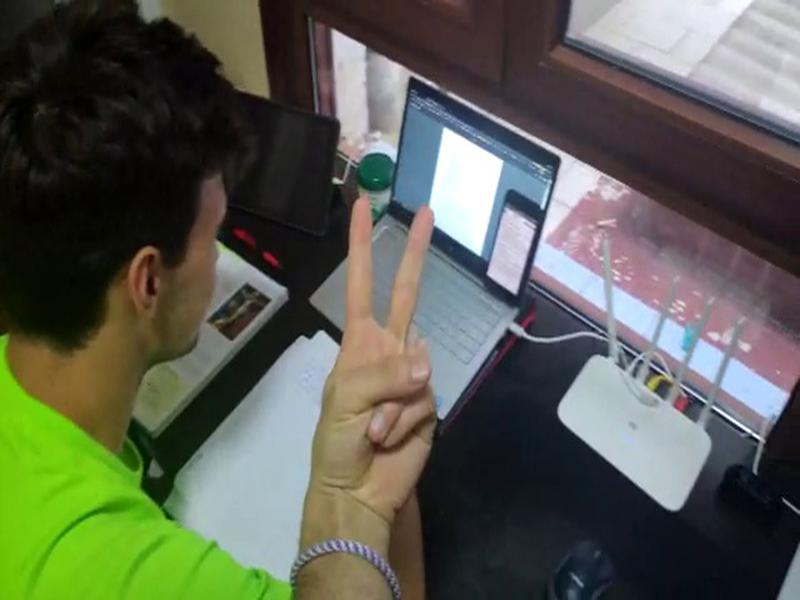Peace: (294, 183, 460, 528)
